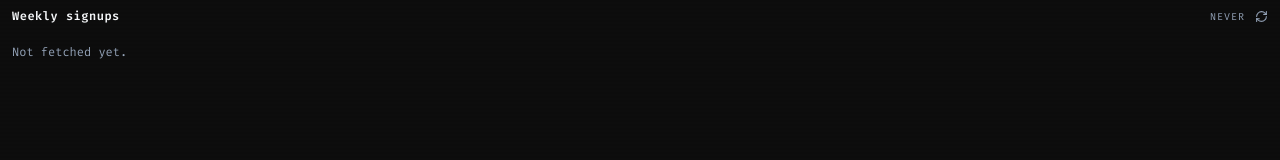
Test: DataPointTile › loads the value by id and shows "Not fetched yet" until refreshed
The image size is (1280, 160).
Expected: the text "Not fetched yet." is shown, left=12, top=44, right=127, bottom=60
Expected: the text "Weekly signups" is shown, left=12, top=8, right=120, bottom=24
Click the button named "Refresh Weekly signups" at point(1262, 16), box left=1255, top=10, right=1268, bottom=22
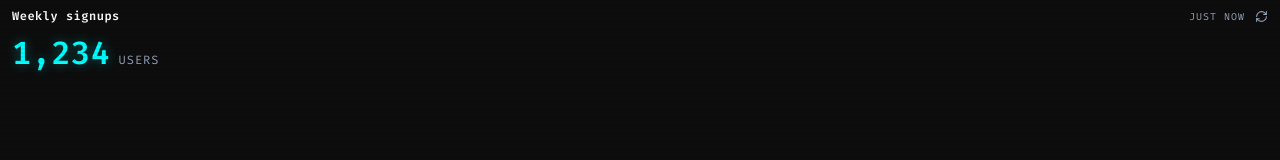
Expected: the text "1,234" is shown, left=12, top=32, right=110, bottom=74
Expected: the text "just now" is shown, left=1189, top=10, right=1245, bottom=22
